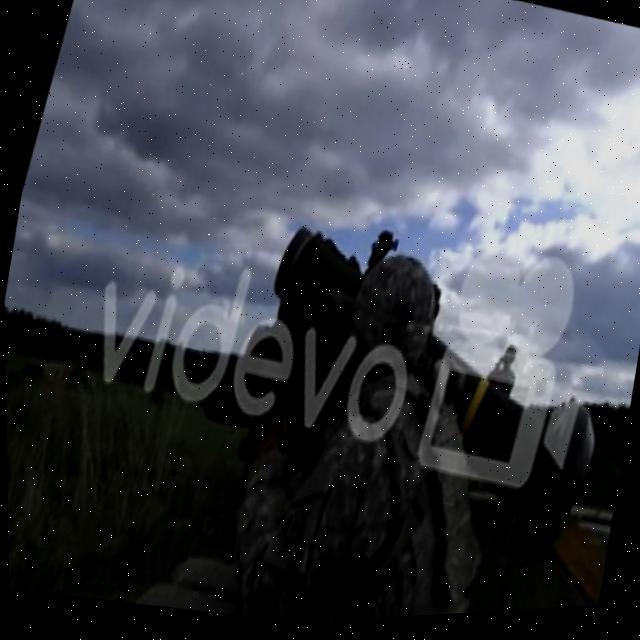rocket: (207, 199, 639, 590)
